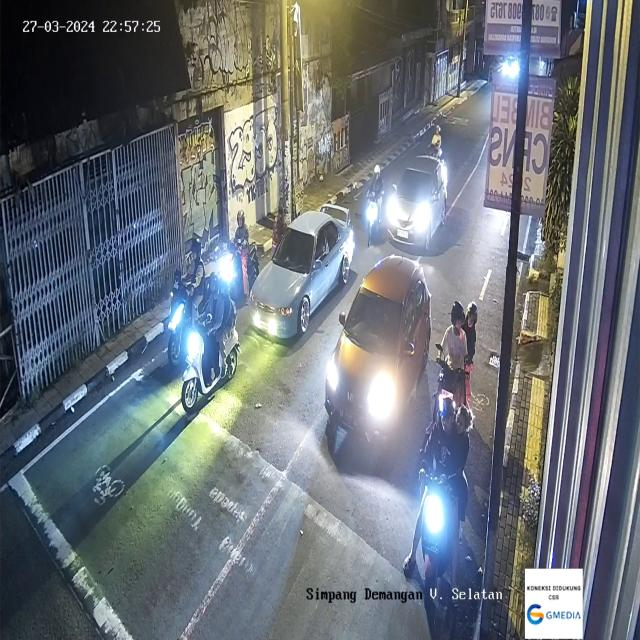car: (328, 253, 428, 446), (250, 205, 357, 339), (389, 156, 449, 253)
motorcycle: (416, 393, 470, 615), (177, 269, 239, 406), (433, 296, 477, 425), (165, 241, 207, 363), (221, 214, 255, 288), (366, 161, 384, 245), (430, 114, 444, 165)
